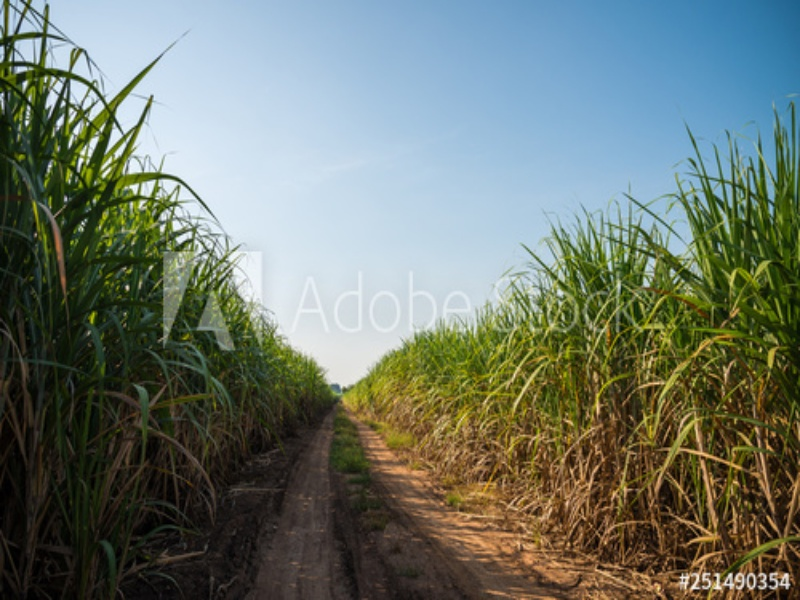sugarcane: (6, 1, 227, 585), (543, 99, 800, 565), (354, 271, 543, 487), (228, 308, 335, 444)
